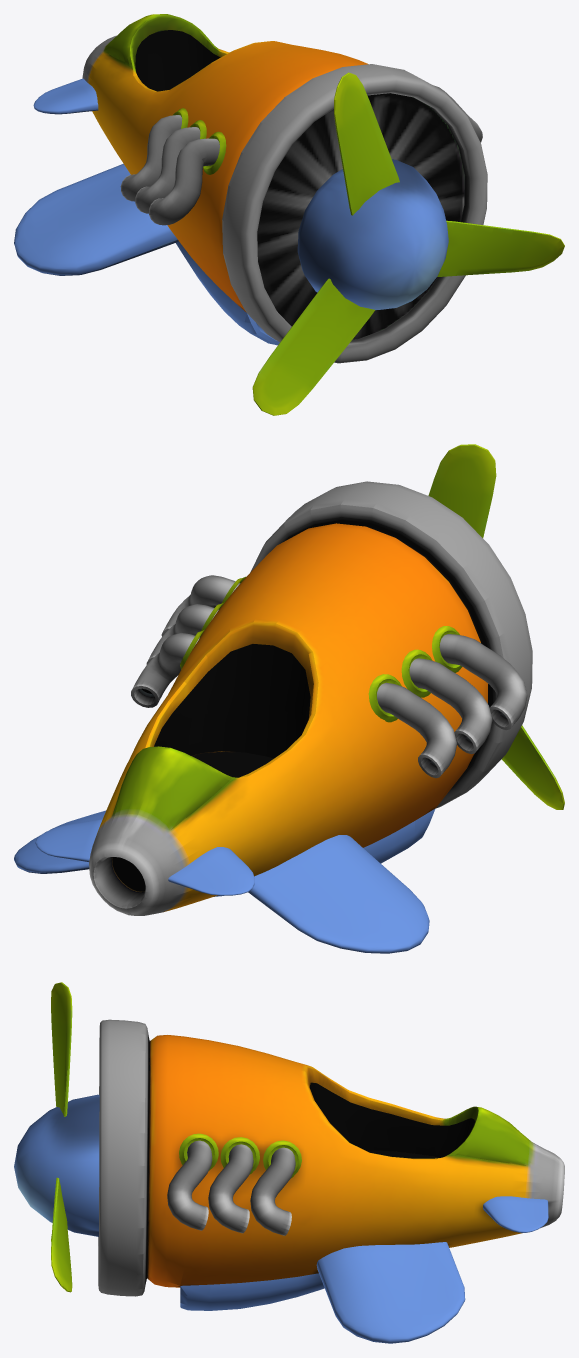
File: seymourplane.dae
3 renders of one model, top to bottom at view 1: azimuth 30°, elevation 25°; view 2: azimuth 150°, elevation 25°; view 3: azimuth 270°, elevation 25°, orthographic. The views are drawn at different scales.
Visible parts, largest first — view 1: plane, prop; view 2: plane, prop; view 3: plane, prop.
Part boxes in pixels (box(x1,y1,x2,y2)): plane: box(14, 14, 487, 363); prop: box(252, 72, 564, 415); plane: box(14, 481, 532, 953); prop: box(428, 444, 564, 809); plane: box(14, 1019, 564, 1343); prop: box(51, 982, 72, 1292).
Bounding box in the file's own units: 7.59 × 6.7 × 11.16.
